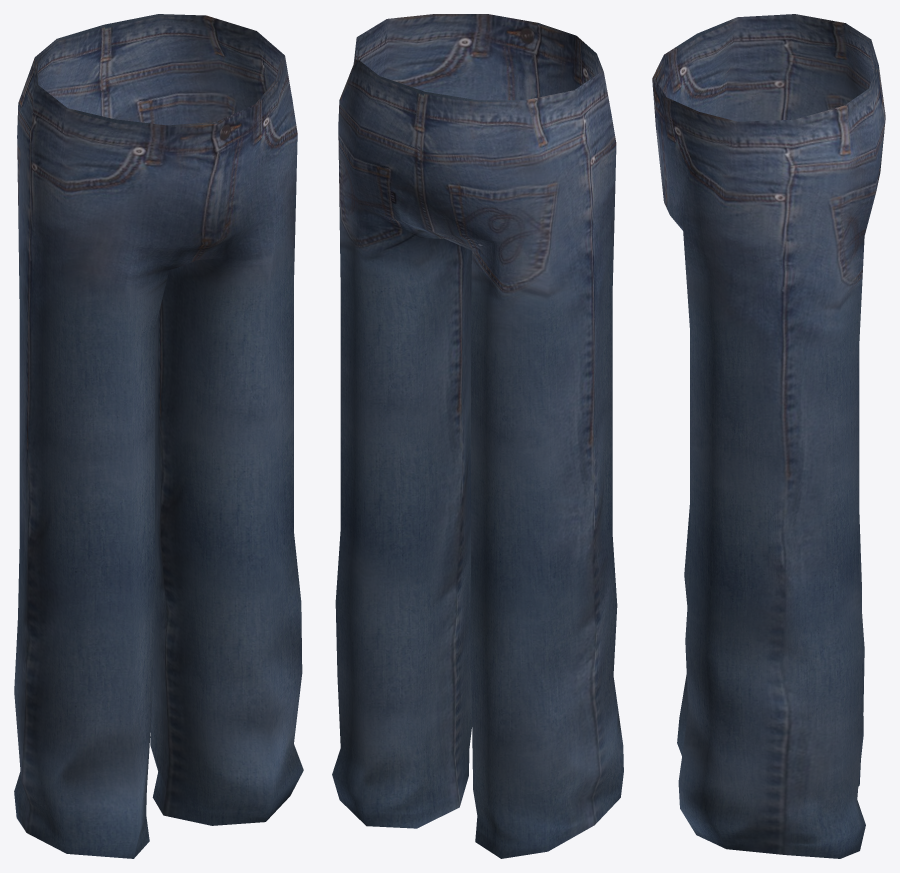
File: TPLegsL.fbx
The picture shows the model from 3 angles, left to right: view 1: azimuth 30°, elevation 25°; view 2: azimuth 150°, elevation 25°; view 3: azimuth 270°, elevation 25°; orthographic projection.
Visible parts, largest first — view 1: TPLegsL; view 2: TPLegsL; view 3: TPLegsL.
Boxes of the visible parts, x1,y1,x2,y2 form: TPLegsL: [14, 14, 303, 858]; TPLegsL: [332, 14, 623, 858]; TPLegsL: [652, 14, 885, 858].
Size of the model in its own units: 27.52 by 78.31 by 21.94.
Materials: 1 (1 with a texture image).
